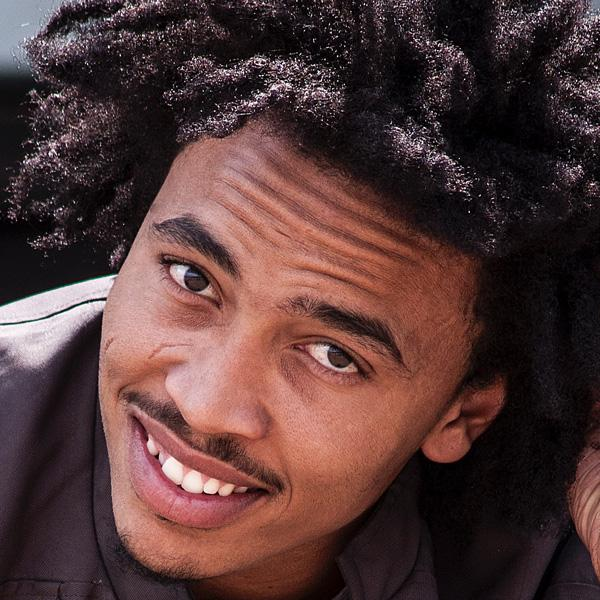Eyes: (281, 329, 382, 395), (152, 246, 231, 319)
